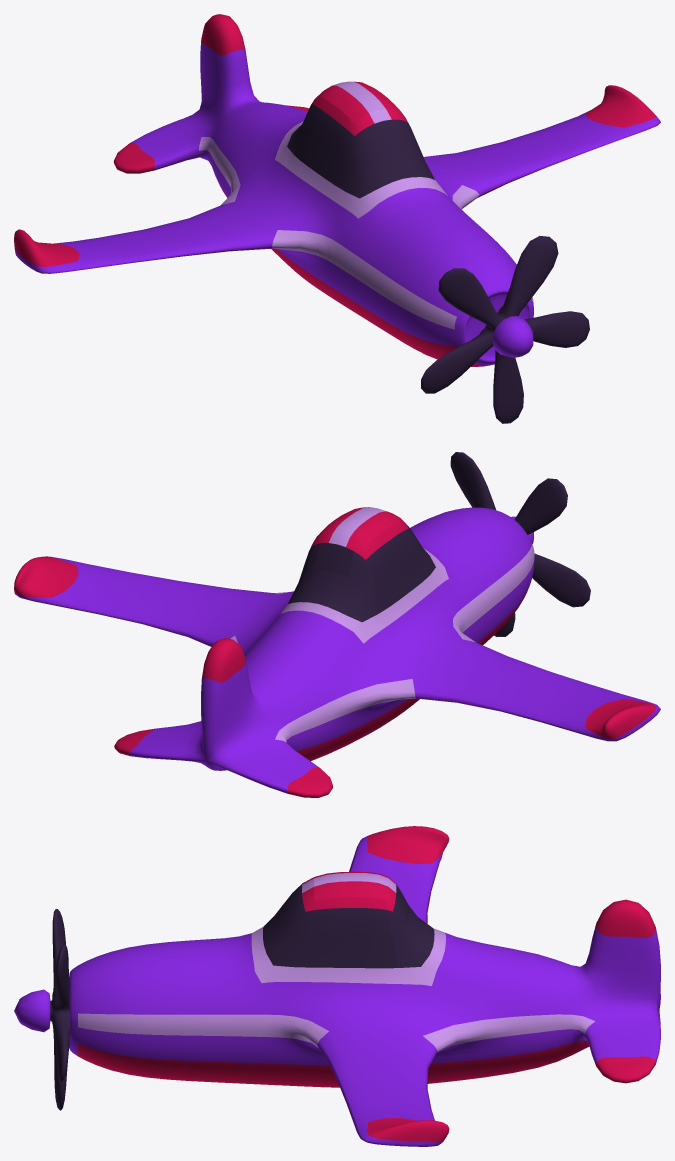
File: Obs-Plane.fbx
3 renders of one model, top to bottom at view 1: azimuth 30°, elevation 25°; view 2: azimuth 150°, elevation 25°; view 3: azimuth 270°, elevation 25°, orthographic.
Visible parts, largest first — view 1: plane, Propeller; view 2: plane, Propeller; view 3: plane, Propeller.
Part boxes in pixels (<box>): plane: <box>14,14,660,366</box>; Propeller: <box>421,236,589,423</box>; plane: <box>14,507,660,797</box>; Propeller: <box>450,452,590,636</box>; plane: <box>14,826,660,1146</box>; Propeller: <box>50,909,70,1110</box>.
Bounding box in the file's own units: 7.93 × 2.79 × 7.09.
